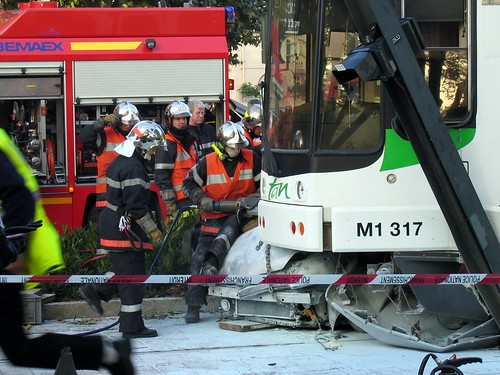helmet: (130, 118, 164, 148), (209, 120, 243, 142), (104, 99, 136, 120), (163, 97, 189, 114)
